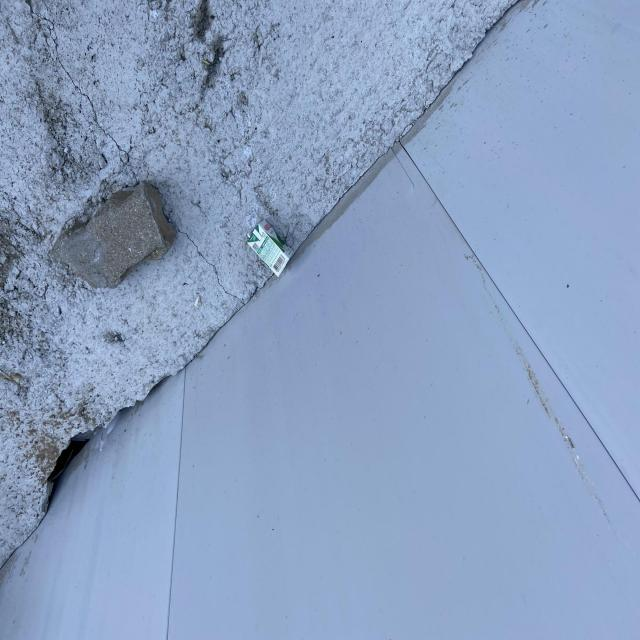paperpack: (247, 219, 293, 276)
